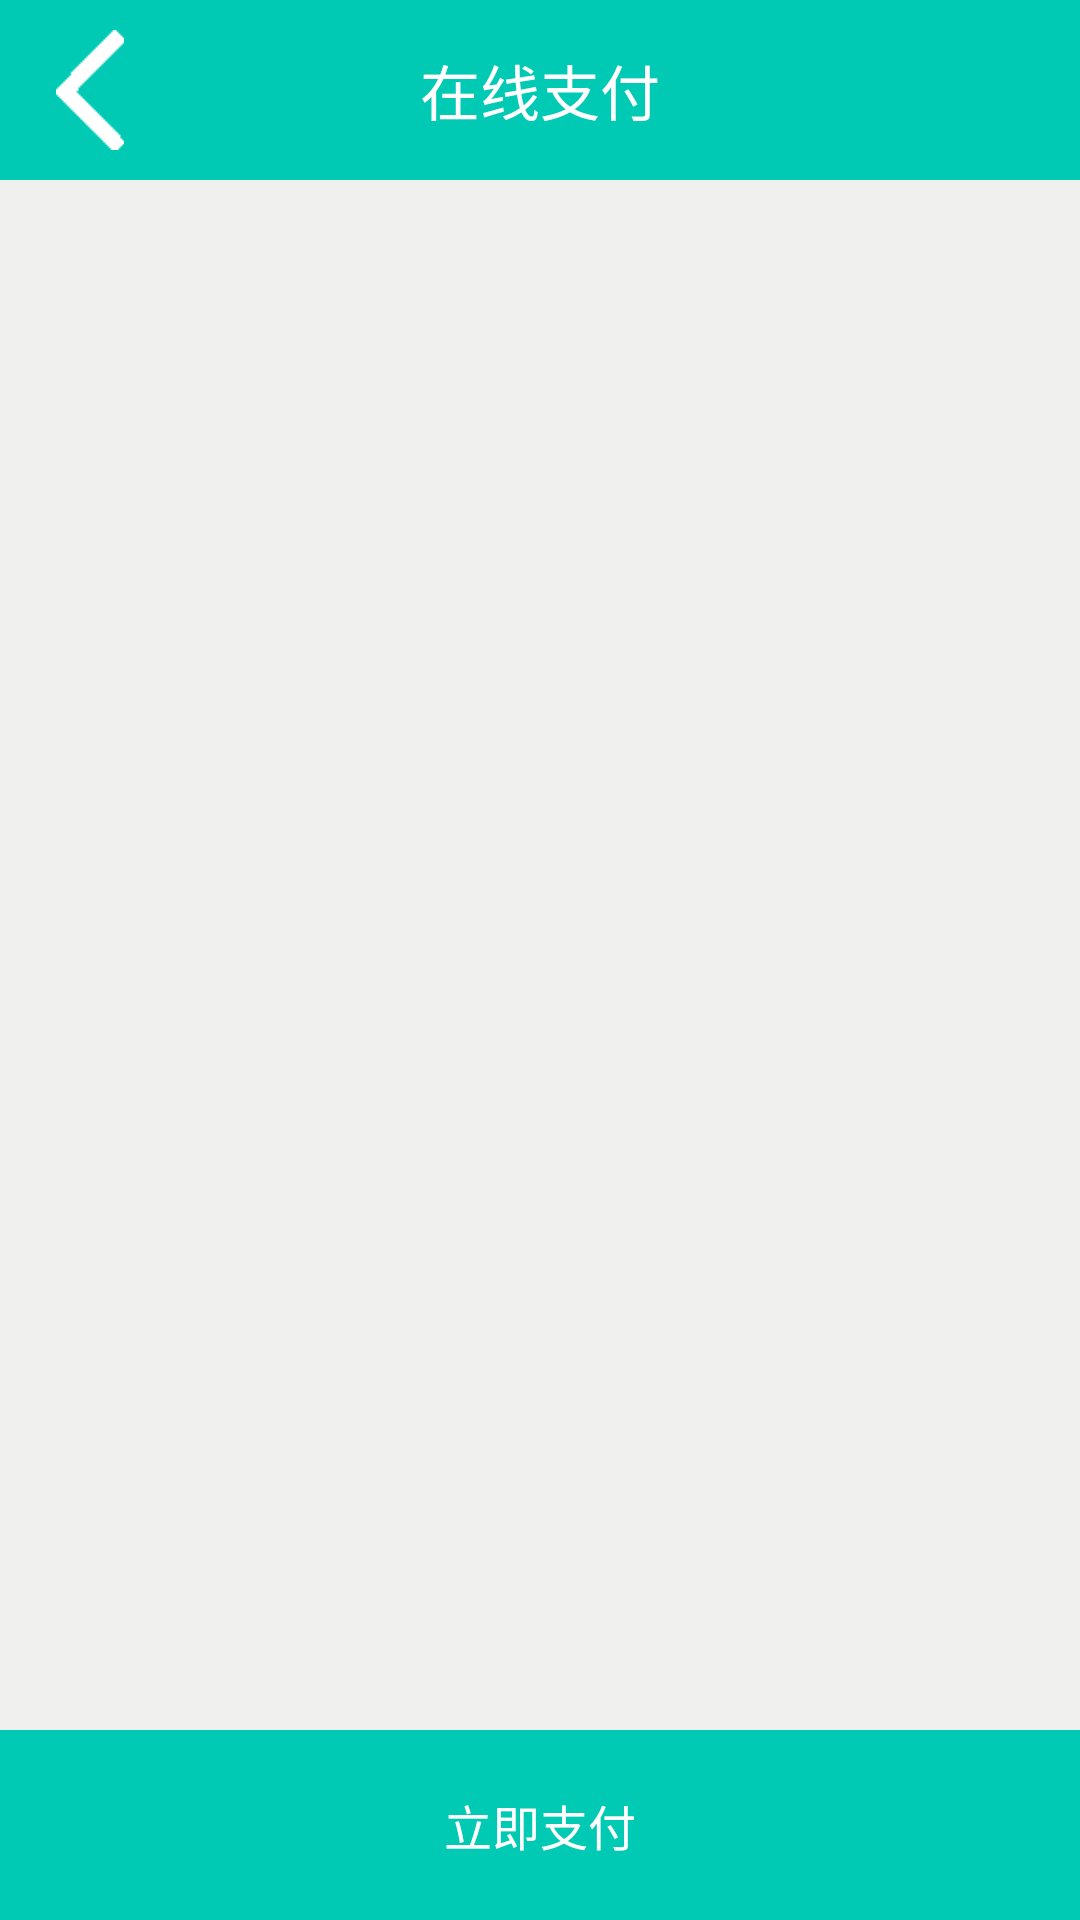

Named icons in this screenshot (1080w x 1920h) and their bounding boxes, (x1, y1, x2, y2):
back: (56, 30, 124, 150)
